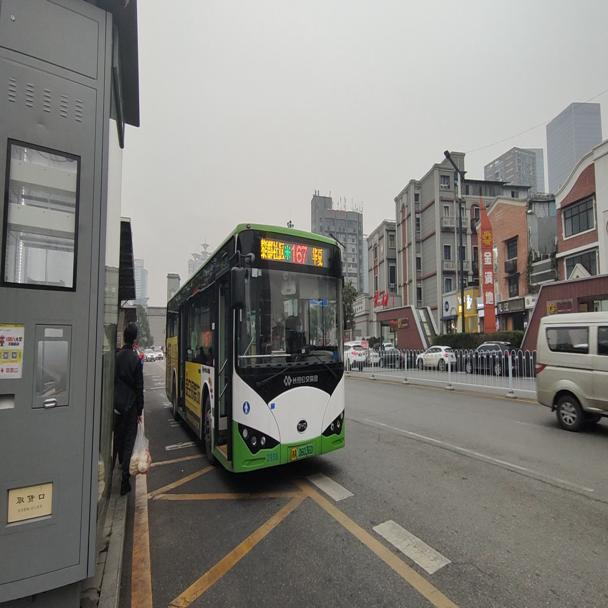bus: (164, 220, 347, 475)
screen: (290, 242, 308, 263)
